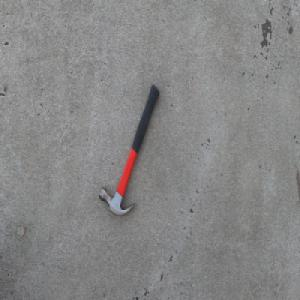Hammer: (98, 83, 160, 217)
